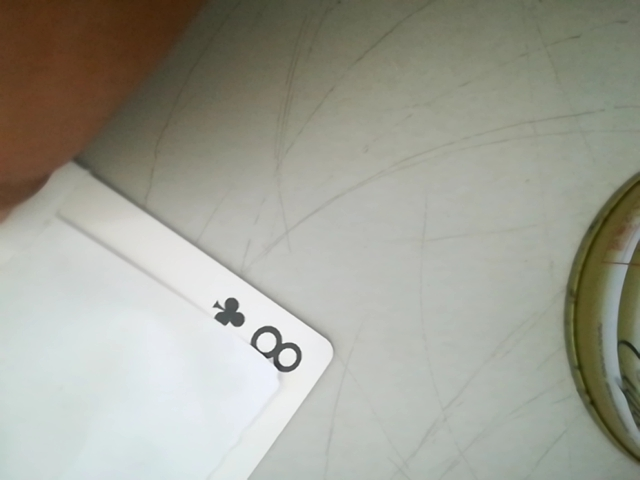mh 8: (205, 281, 318, 383)
